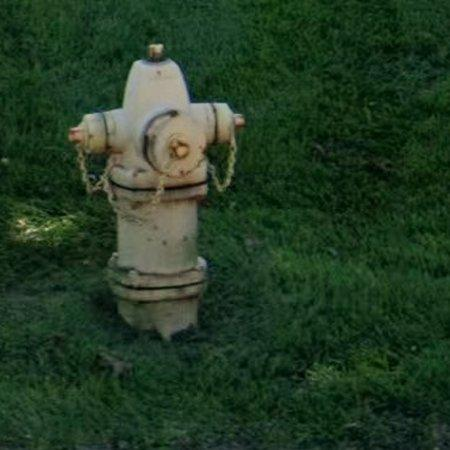a fire hydrant: (68, 44, 245, 338)
